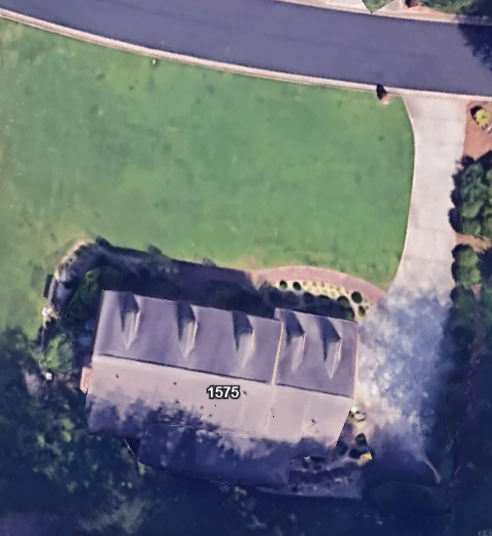driveway: (354, 93, 465, 478)
